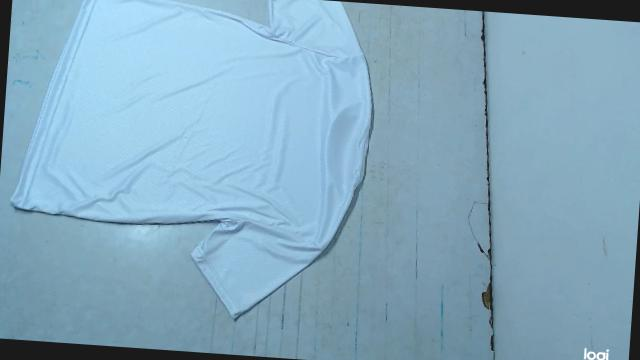new-garment: (10, 0, 371, 318)
